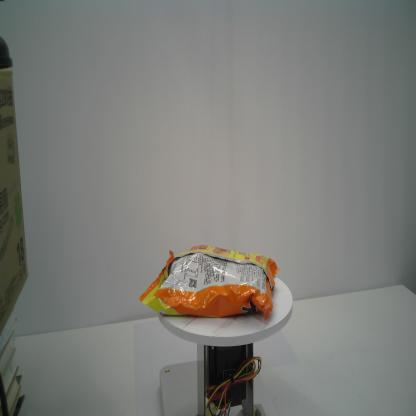Instant Noodles: (138, 242, 280, 325)
